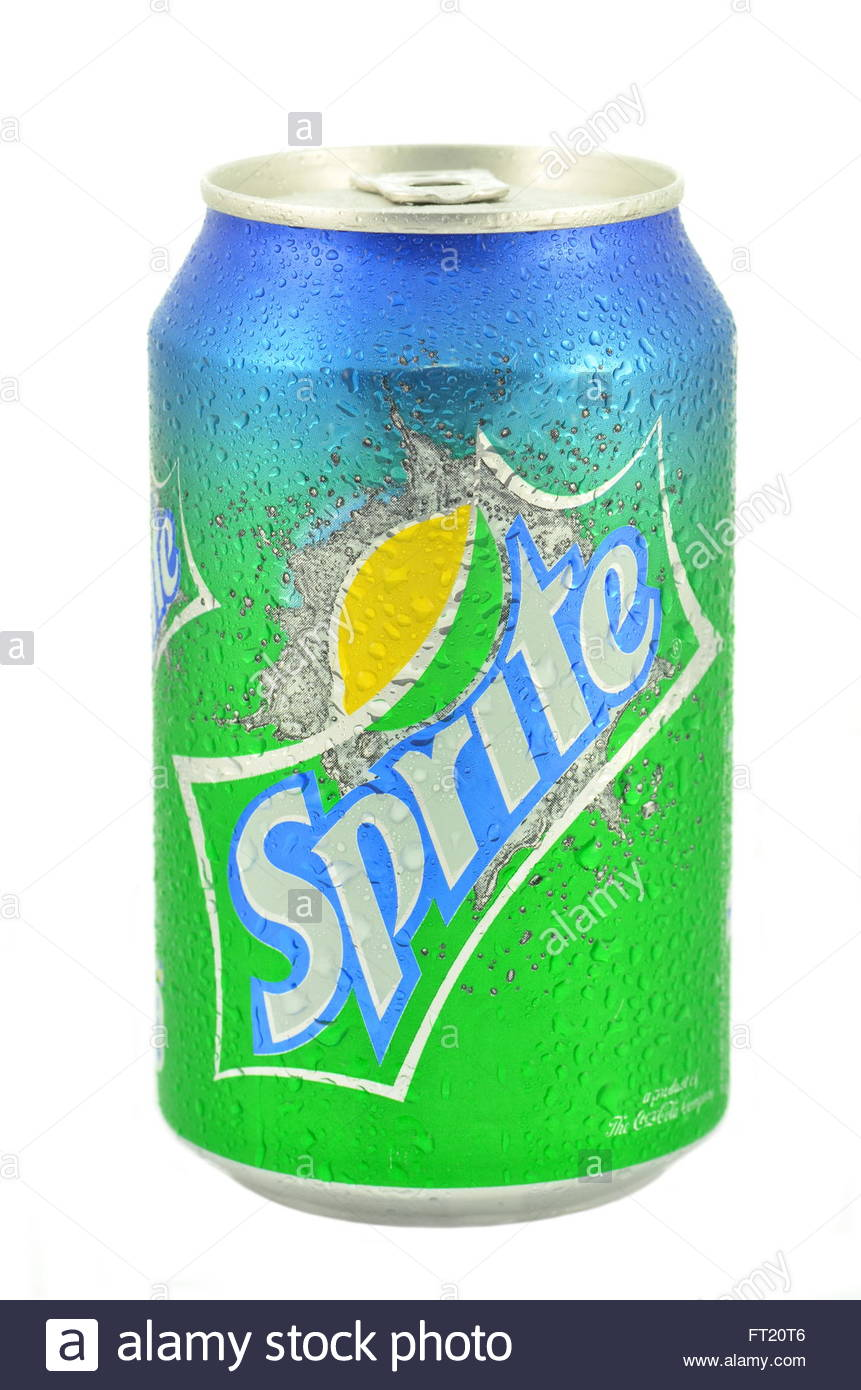sprite_can: (148, 151, 731, 1229)
